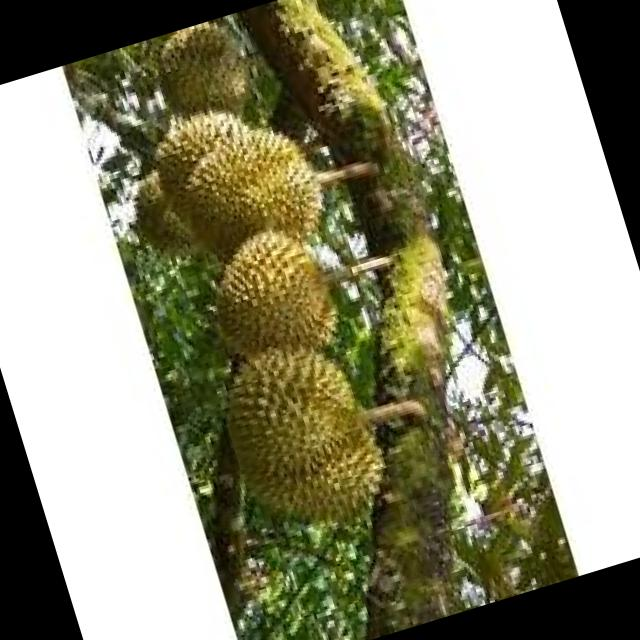fruit: (194, 308, 422, 565), (96, 72, 351, 296), (180, 198, 370, 386)
